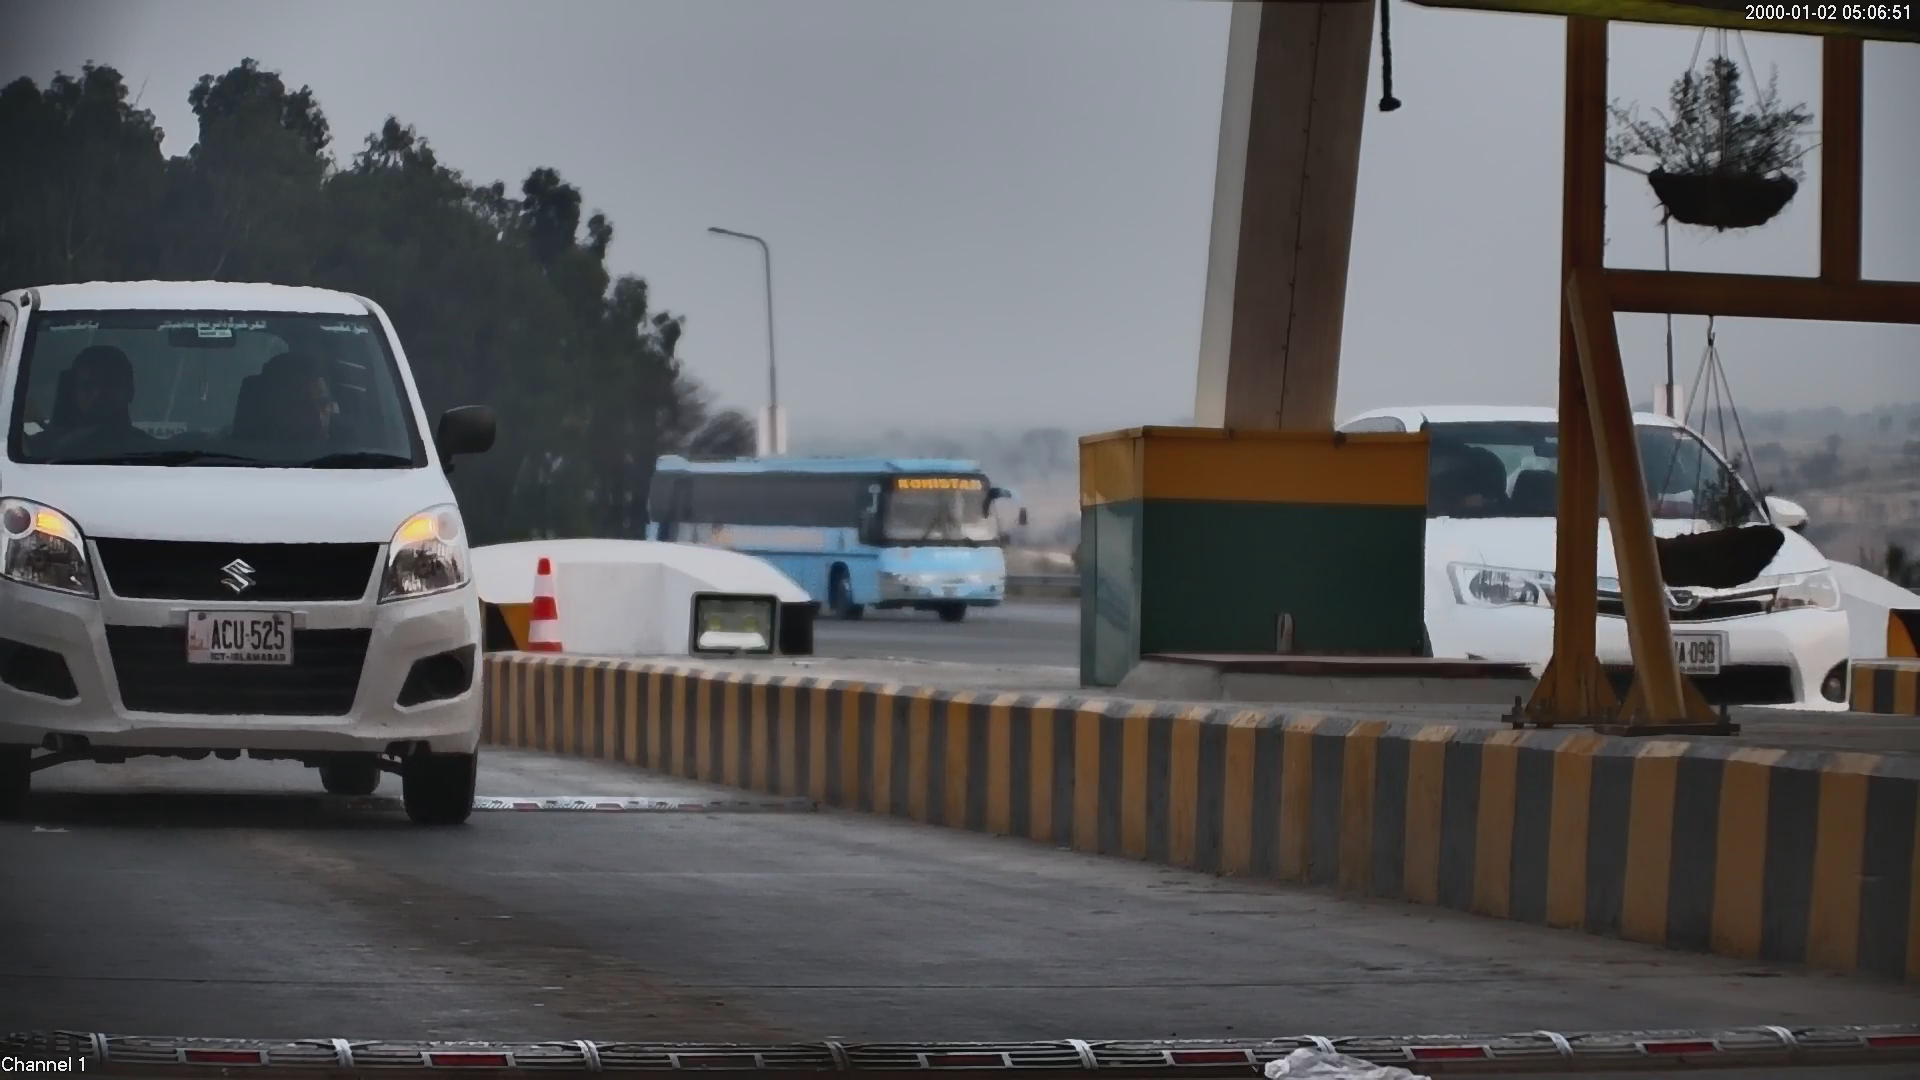Number_Plate: (177, 597, 308, 676)
